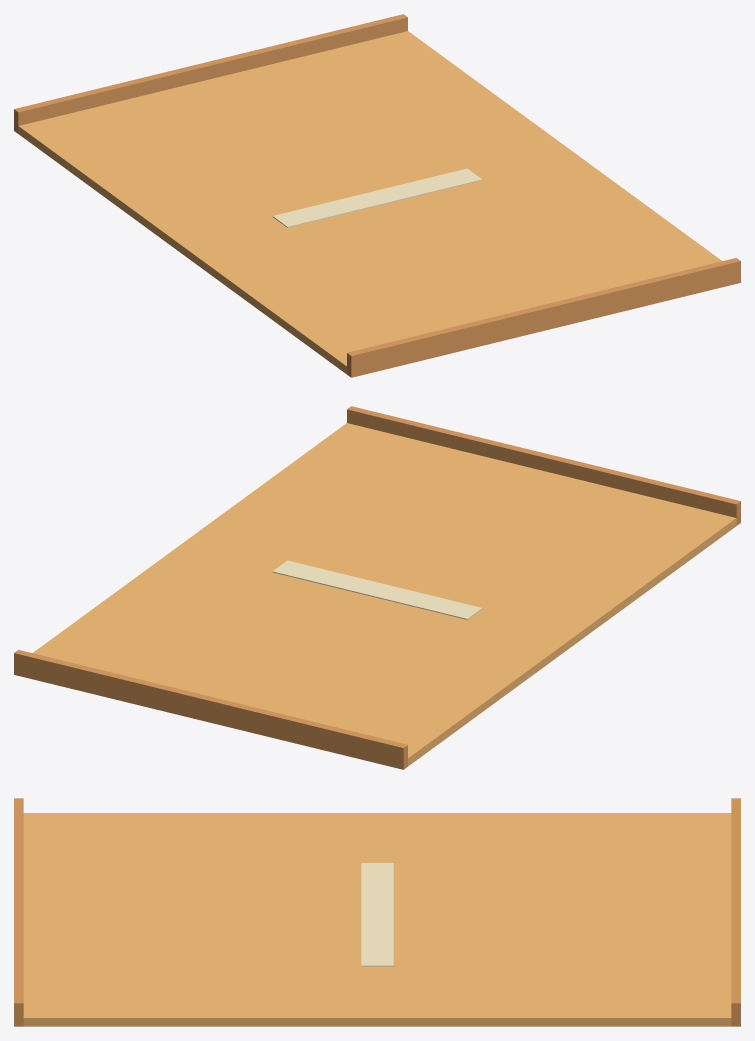
Rendered from track_piece.glb.
The picture shows the model from 3 angles, top to bottom: view 1: azimuth 30°, elevation 25°; view 2: azimuth 150°, elevation 25°; view 3: azimuth 270°, elevation 25°; orthographic projection. The views are drawn at different scales.
Bounding box in the file's own units: 0.6 × 0.032 × 0.9.
